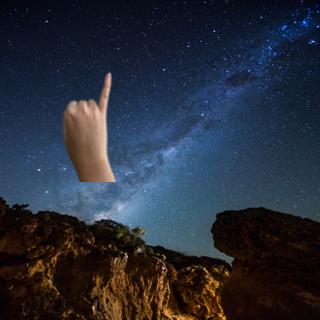Fine: (52, 60, 129, 186)
